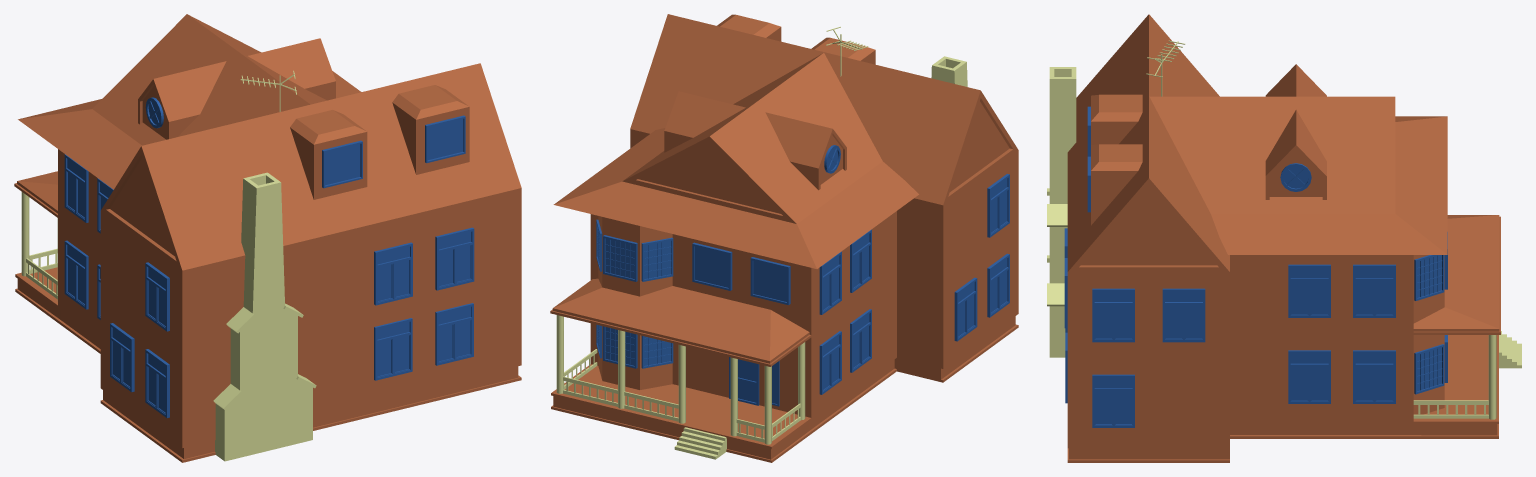
Rendered from huis 2.FBX.
The picture shows the model from 3 angles, left to right: view 1: azimuth 30°, elevation 25°; view 2: azimuth 150°, elevation 25°; view 3: azimuth 270°, elevation 25°; orthographic projection. The views are drawn at different scales.
Visible parts, largest first — view 1: achterhuis, Box001, Box034, Box009, Box006, Box039, Box038, Box036, Box037, Box011, Box010, Box018 (+7 smaller); view 2: Box001, achterhuis, Box002, Box006, Cylinder001, Cylinder002, groot raam003, groot raam002, Box009, Box032, Box033, Box003 (+11 smaller); view 3: Box001, achterhuis, Box002, Box034, Box009, Box006, Box031, Box029, Box025, Box026, Box028, Box027 (+9 smaller).
Part boxes in pixels (x1,y1,x2,y2): achterhuis: (100, 63, 521, 462); Box001: (15, 14, 361, 353); Box034: (215, 172, 312, 461); Box009: (290, 85, 469, 199); Box006: (138, 38, 335, 139); Box039: (435, 227, 474, 290); Box038: (374, 242, 412, 305); Box036: (435, 303, 473, 365); Box037: (374, 318, 412, 380); Box011: (322, 140, 362, 188); Box010: (425, 115, 465, 163); Box018: (145, 262, 169, 331); Box001: (551, 53, 918, 462); achterhuis: (630, 14, 1018, 382); Box002: (550, 278, 811, 366); Box006: (664, 91, 846, 190); Cylinder001: (598, 216, 672, 389); Cylinder002: (556, 315, 805, 444); groot raam003: (596, 219, 673, 281); groot raam002: (596, 324, 673, 368); Box009: (717, 14, 875, 64); Box032: (692, 242, 732, 290); Box033: (750, 257, 790, 305); Box003: (563, 376, 678, 421); Box001: (1149, 96, 1498, 438); achterhuis: (1067, 14, 1229, 462); Box002: (1413, 215, 1500, 334); Box034: (1049, 67, 1076, 357); Box009: (1091, 94, 1142, 225); Box006: (1265, 64, 1326, 199); Box031: (1162, 288, 1205, 342); Box029: (1092, 288, 1134, 342); Box025: (1288, 264, 1330, 317); Box026: (1353, 264, 1395, 317); Box028: (1288, 350, 1330, 403); Box027: (1353, 350, 1395, 403).
Size of the model in its own units: 8.65 by 7.63 by 10.4.
